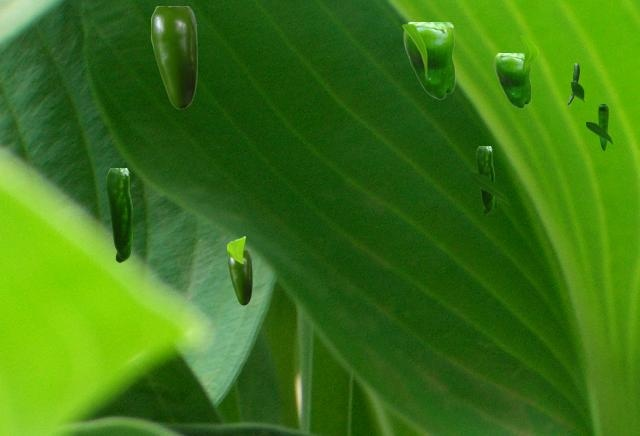green_chili: (151, 6, 196, 108), (403, 22, 454, 98), (106, 168, 131, 261), (494, 53, 530, 107), (228, 250, 251, 304), (476, 146, 493, 213), (567, 63, 578, 104), (598, 104, 607, 149)
